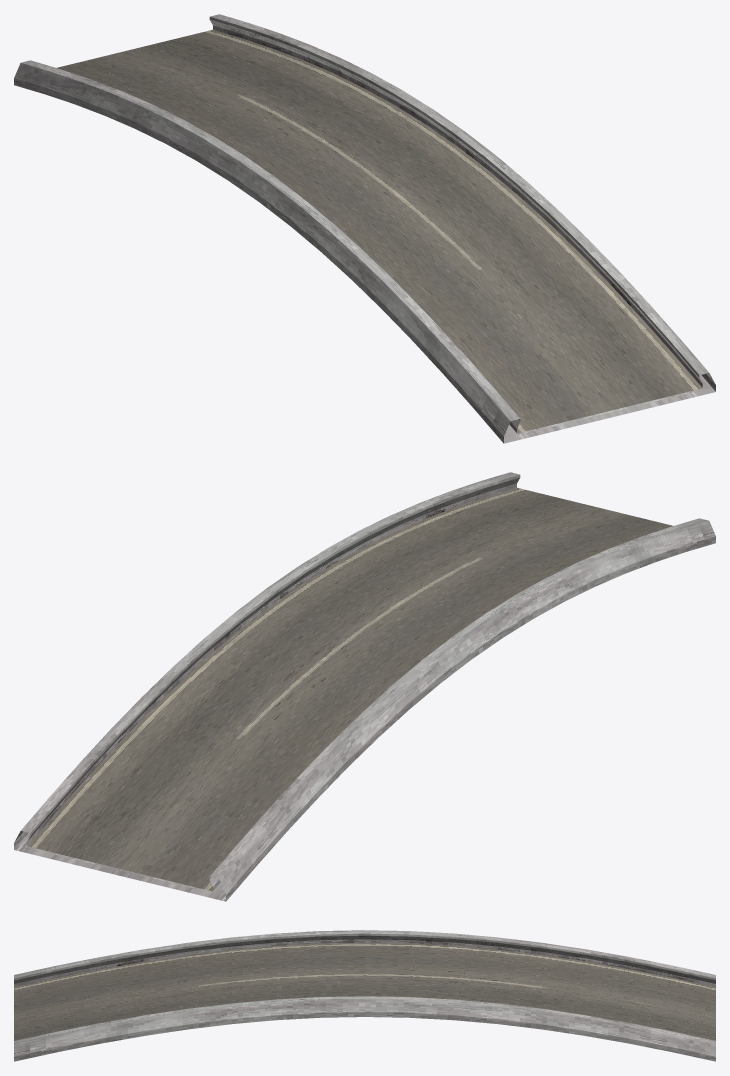
The model's file is road-Straight-BiSlopeUp-BiSlopeDown-Even-Center-Size4.glb.
3 renders of one model, top to bottom at view 1: azimuth 30°, elevation 25°; view 2: azimuth 150°, elevation 25°; view 3: azimuth 270°, elevation 25°, orthographic. The views are drawn at different scales.
Visible parts, largest first — view 1: road-Straight-BiSlopeUp-BiSlopeDown-Even-Center-Size4; view 2: road-Straight-BiSlopeUp-BiSlopeDown-Even-Center-Size4; view 3: road-Straight-BiSlopeUp-BiSlopeDown-Even-Center-Size4.
Part boxes in pixels (x1=…): road-Straight-BiSlopeUp-BiSlopeDown-Even-Center-Size4: x1=14, y1=14, x2=715, y2=443; road-Straight-BiSlopeUp-BiSlopeDown-Even-Center-Size4: x1=14, y1=472, x2=715, y2=901; road-Straight-BiSlopeUp-BiSlopeDown-Even-Center-Size4: x1=14, y1=930, x2=715, y2=1061.
Size of the model in its own units: 1 by 0.375 by 4.
Materials: 2 (2 with a texture image).
